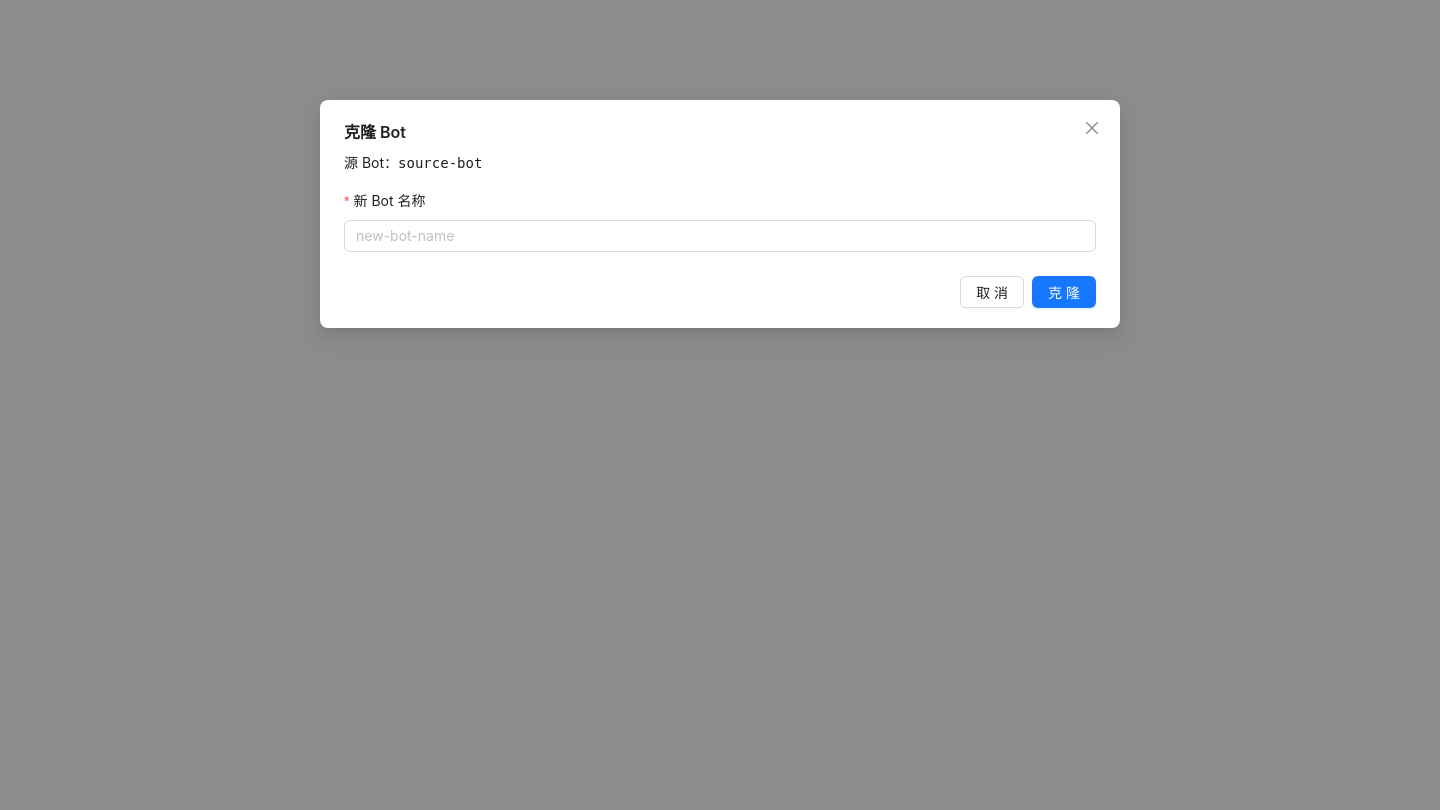
Scenario: <CloneBotModal> › uses extractErrorMessage on error (W5)
Expected: the text "克隆 Bot" is shown, [344, 122, 406, 142]
Type "good-name" into the field with placeholder "new-bot-name" at (712, 236), box [356, 225, 1068, 247]
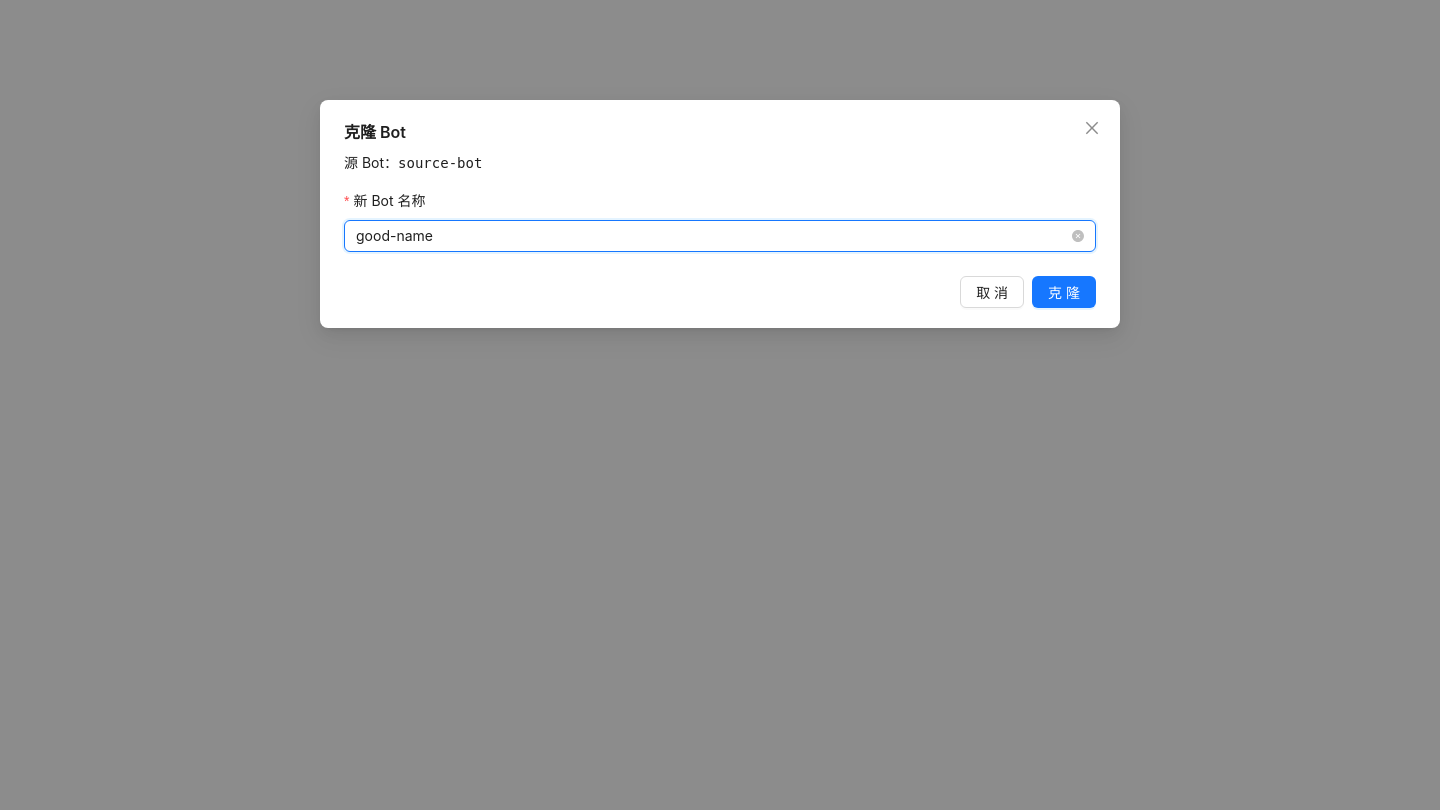
Click the button "克 隆" at (1064, 292), box [1032, 276, 1096, 308]
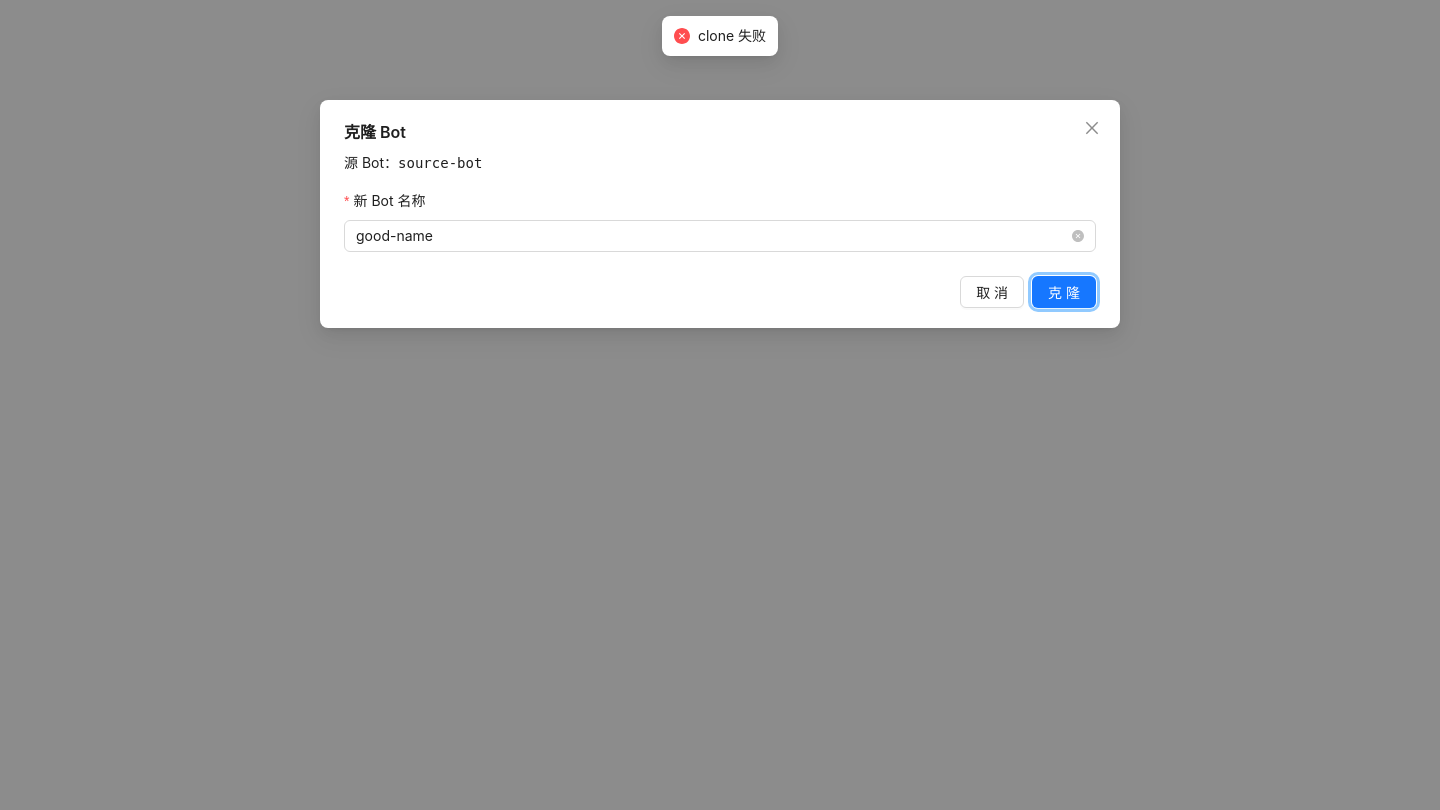
Expected: the text "clone 失败" is shown, [698, 25, 766, 47]
